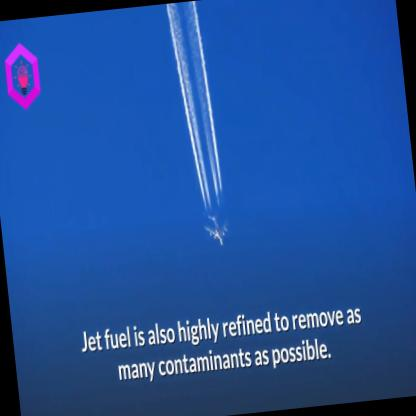plane: (199, 206, 238, 255)
